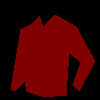abbigliamento_uomo: (10, 14, 95, 97)
